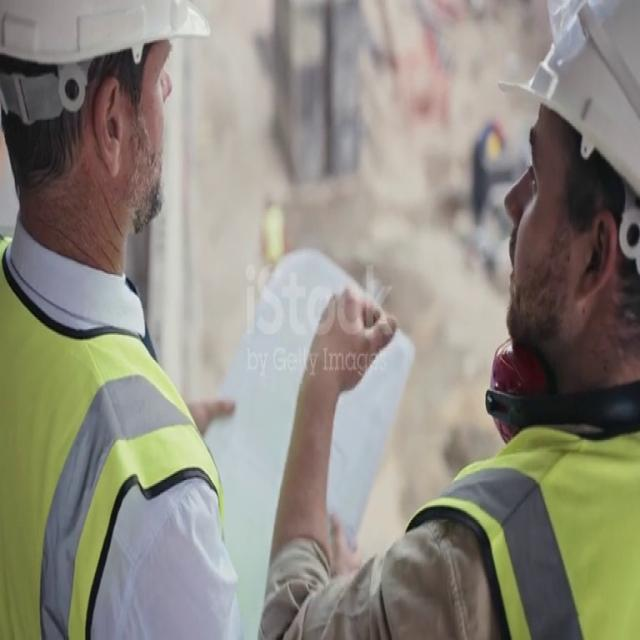capacete: (485, 1, 640, 247), (2, 3, 216, 151)
